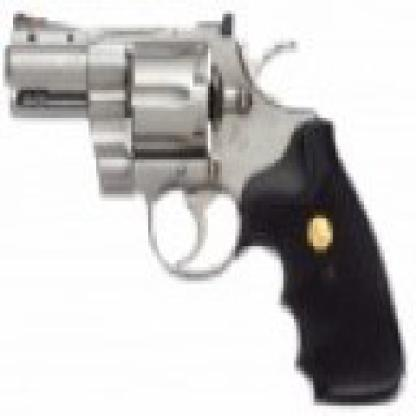pistol: (8, 10, 406, 405)
